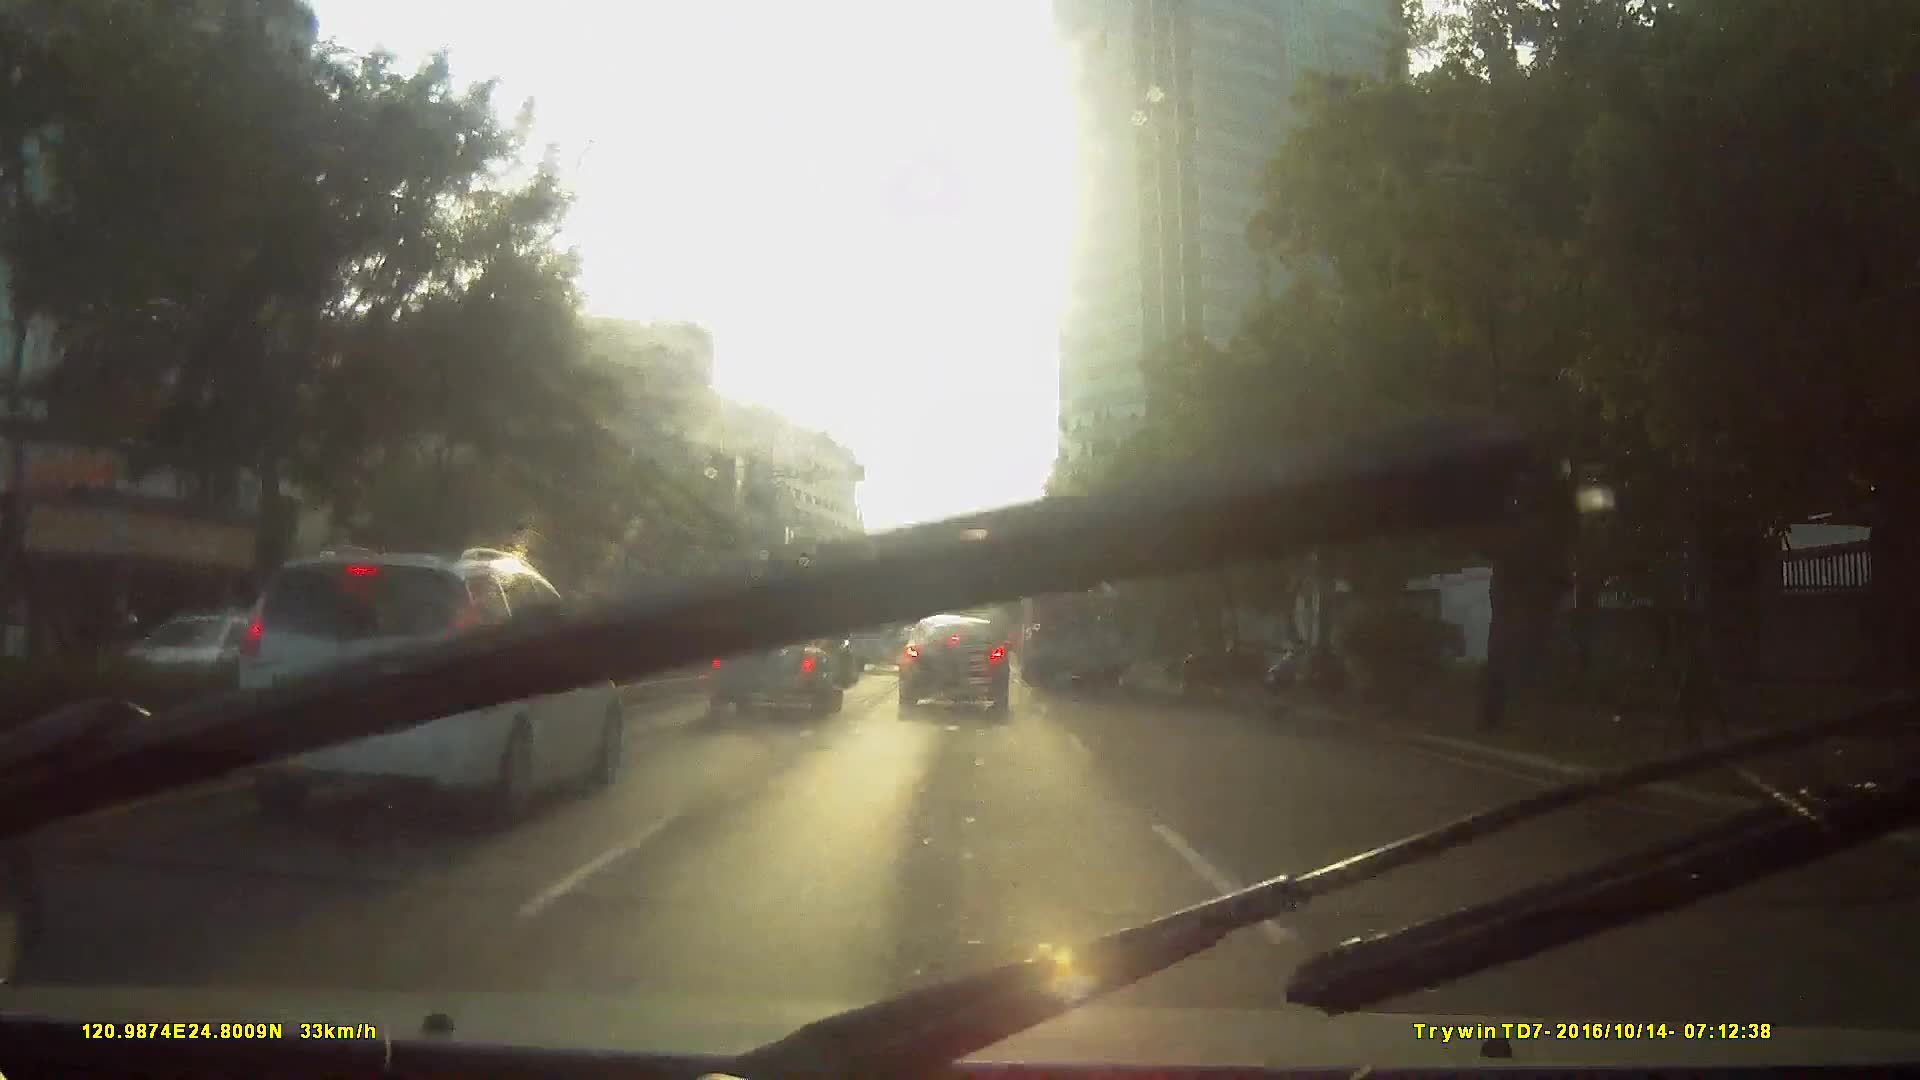vehicle: (251, 556, 684, 868), (203, 542, 632, 835), (1015, 546, 1135, 690), (702, 615, 845, 720), (895, 607, 1011, 715), (849, 615, 909, 676)
